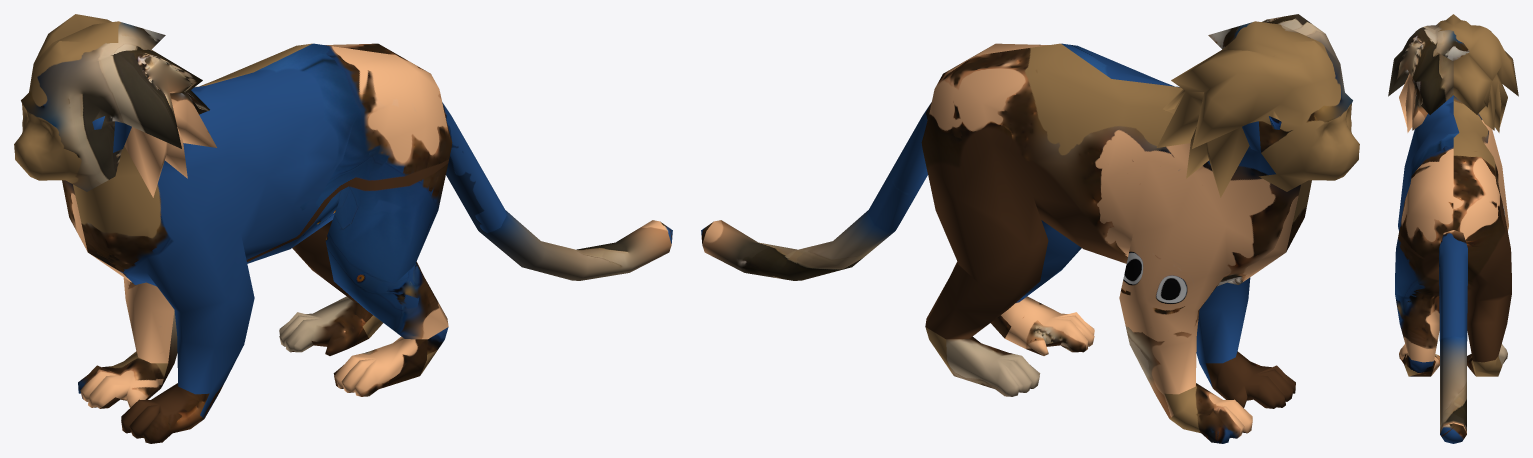
Rendered from mono.fbx.
3 views of the same model, side by side, from view 1: azimuth 30°, elevation 25°; view 2: azimuth 150°, elevation 25°; view 3: azimuth 270°, elevation 25° (orthographic). The views are drawn at different scales.
Parts seen in each view (by area): view 1: mesh_rep_0_ori_repair_quad; view 2: mesh_rep_0_ori_repair_quad; view 3: mesh_rep_0_ori_repair_quad.
Boxes of the visible parts, x1,y1,x2,y2 form: mesh_rep_0_ori_repair_quad: (14, 14, 672, 443); mesh_rep_0_ori_repair_quad: (701, 14, 1359, 443); mesh_rep_0_ori_repair_quad: (1388, 14, 1518, 443).
Size of the model in its own units: 110 by 63.65 by 28.81.
